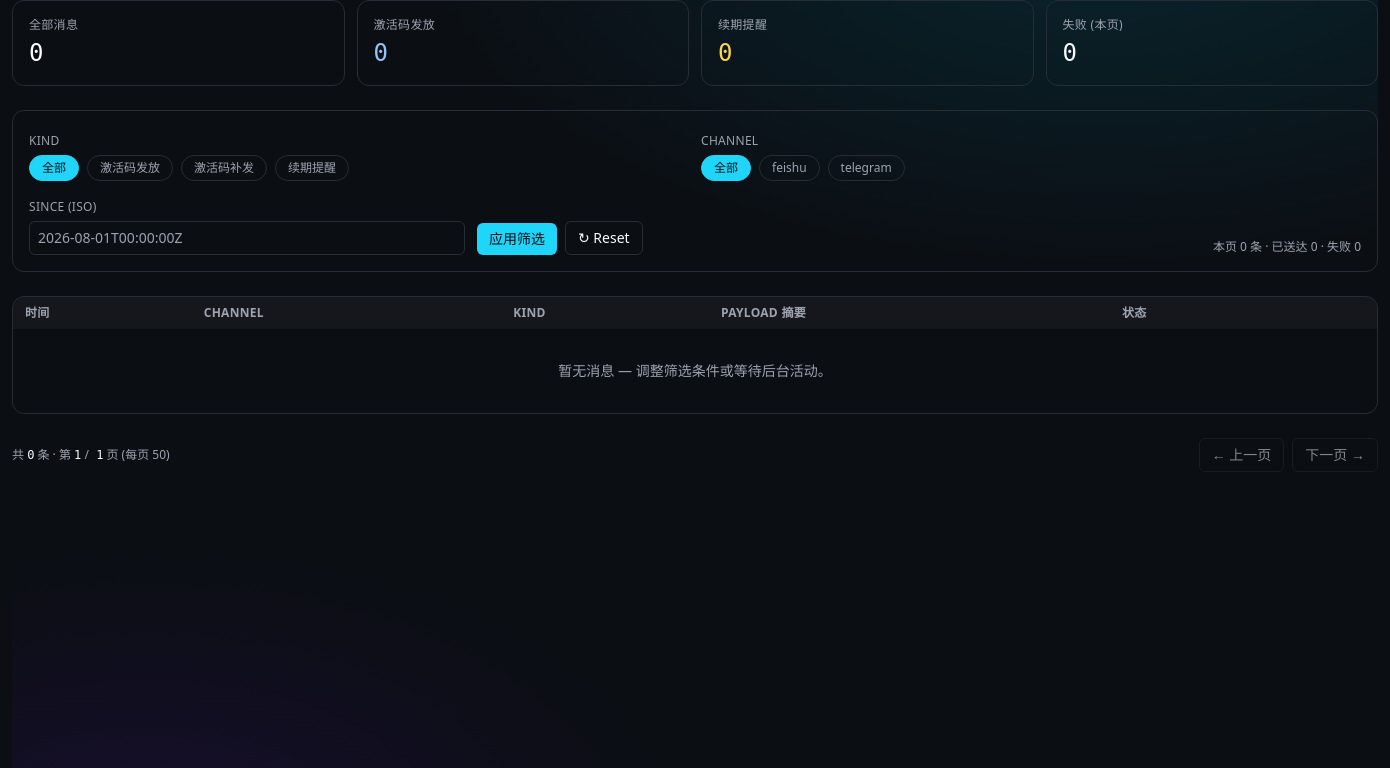
MessagesPanel › renders an error banner when the fetch fails
The image size is (1390, 768).
Click the button with test id "btn-reset" at (604, 238), box [565,221,643,255]
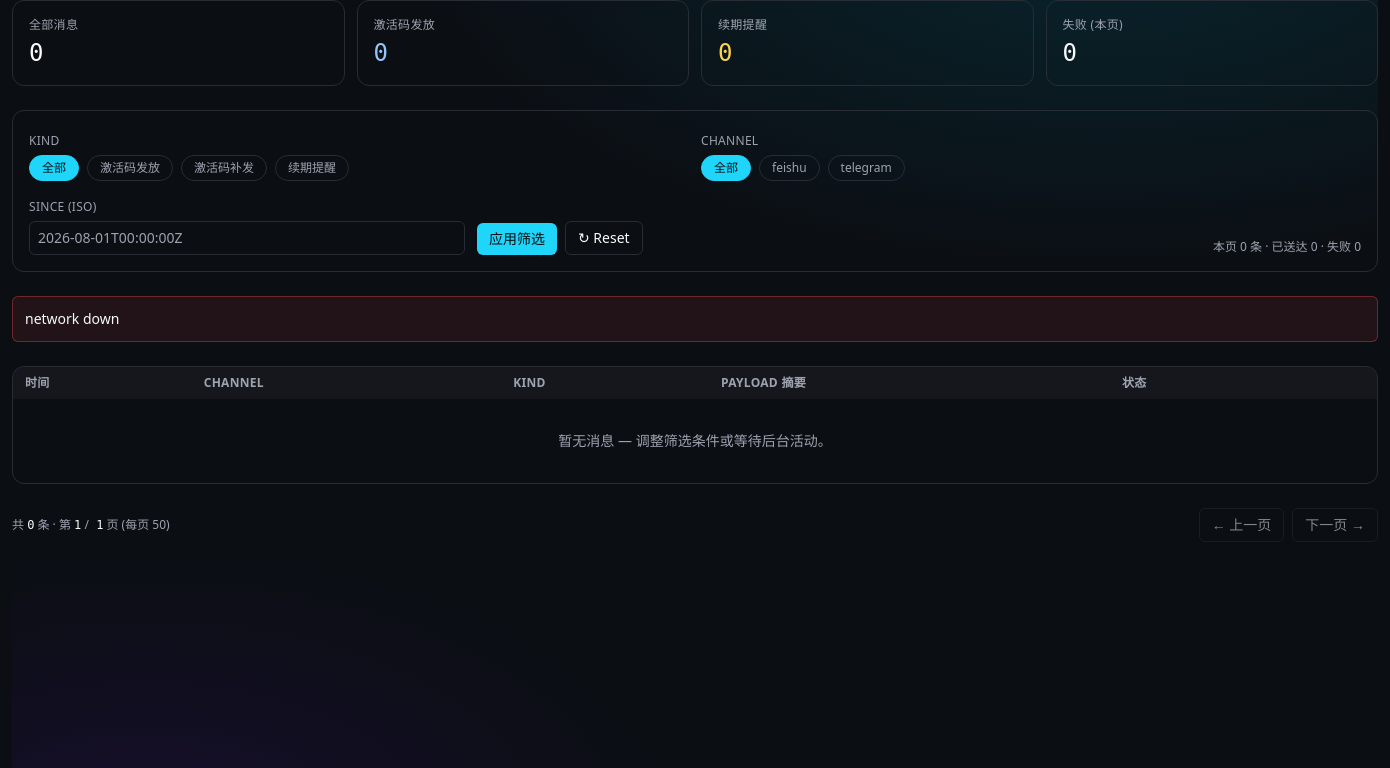
Expected: the text with test id "messages-error" reads "network down", [25,309,119,328]
